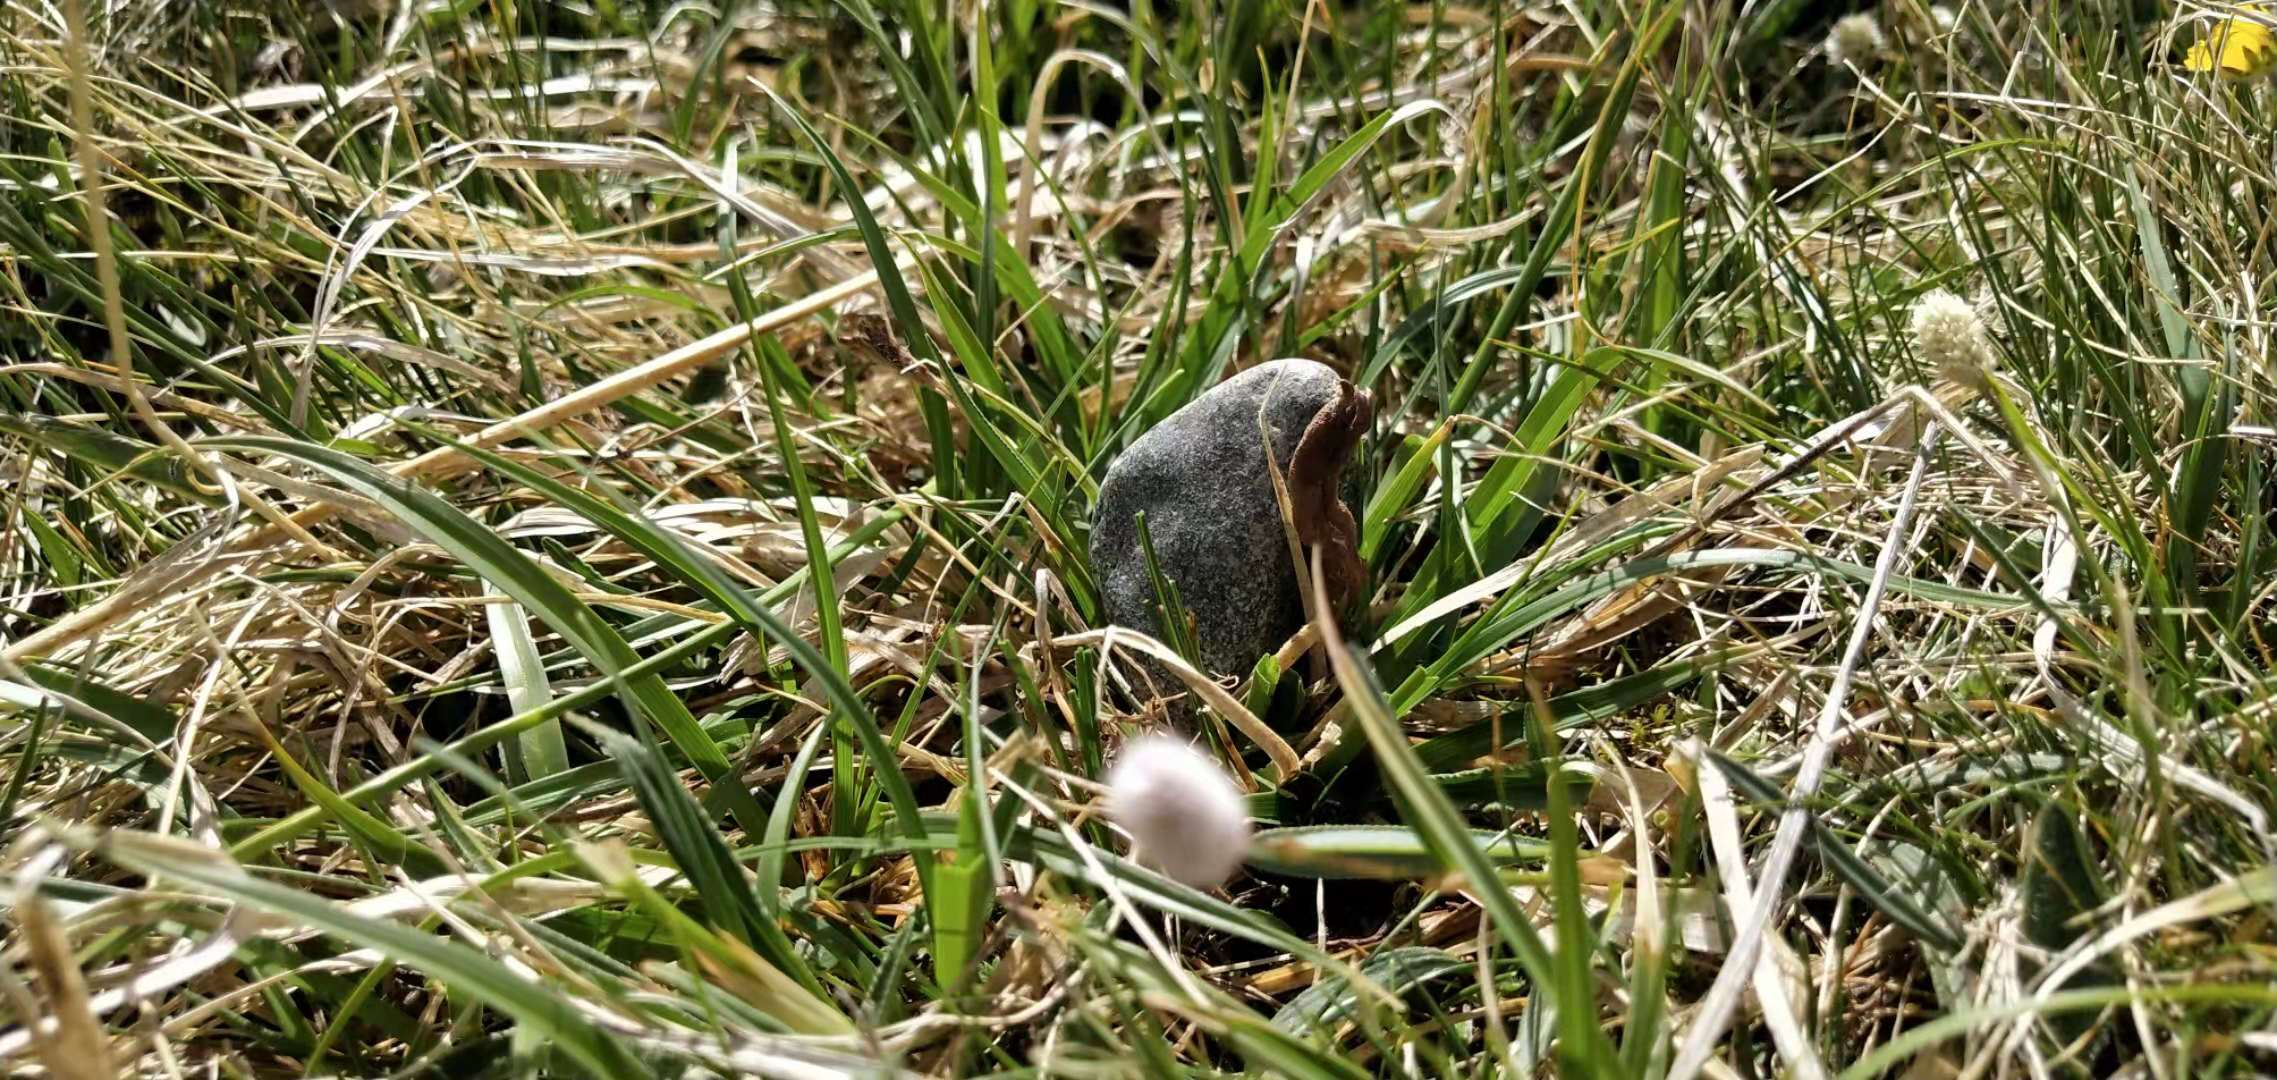w: (1290, 377, 1362, 624)
